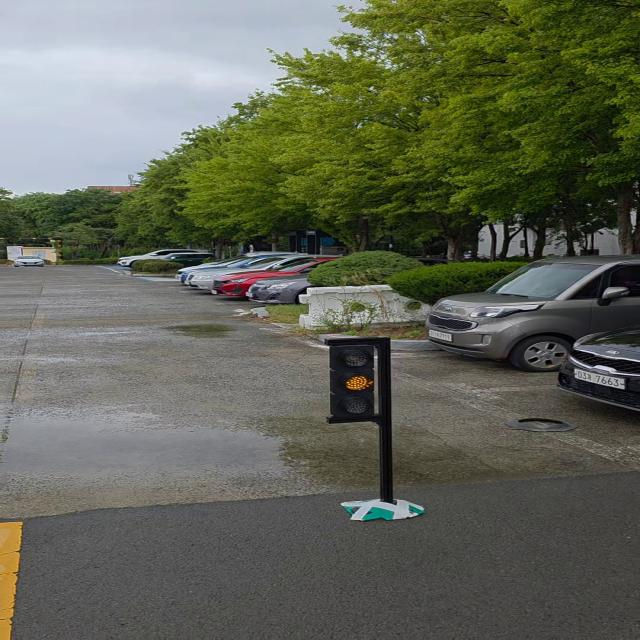yellow: (330, 342, 391, 419)
